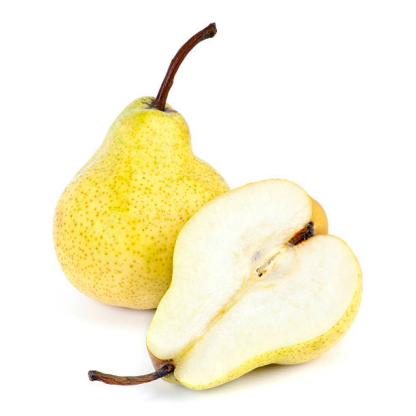Paer: (73, 64, 231, 310)
